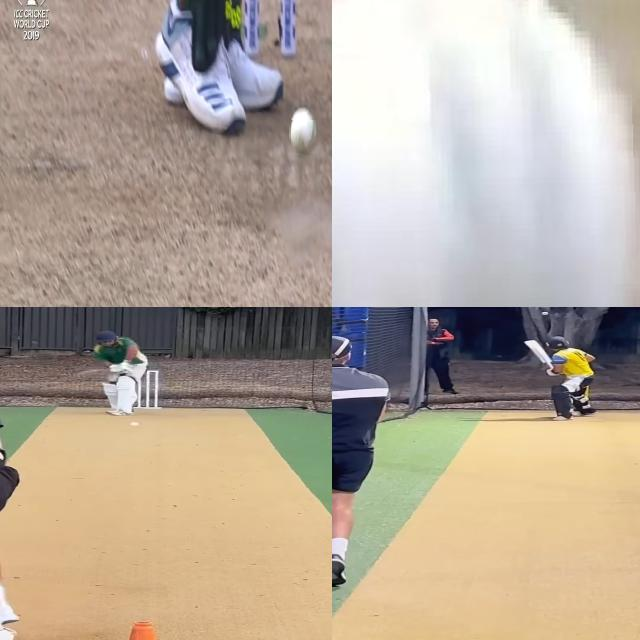Cricket ball: (332, 0, 640, 307), (290, 103, 318, 155), (130, 421, 141, 428), (541, 312, 549, 316)
Stumps: (133, 370, 160, 411)
